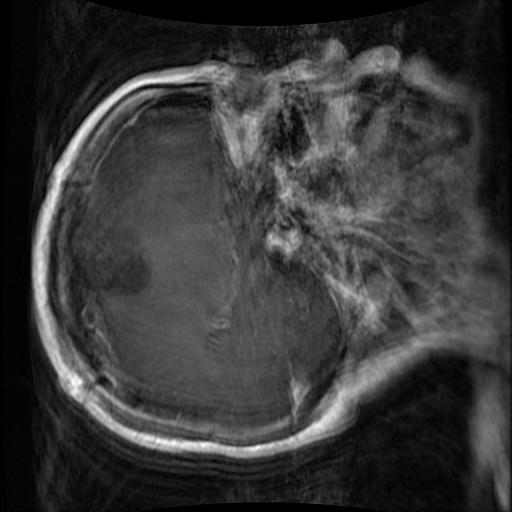glioma: (81, 250, 150, 297)
